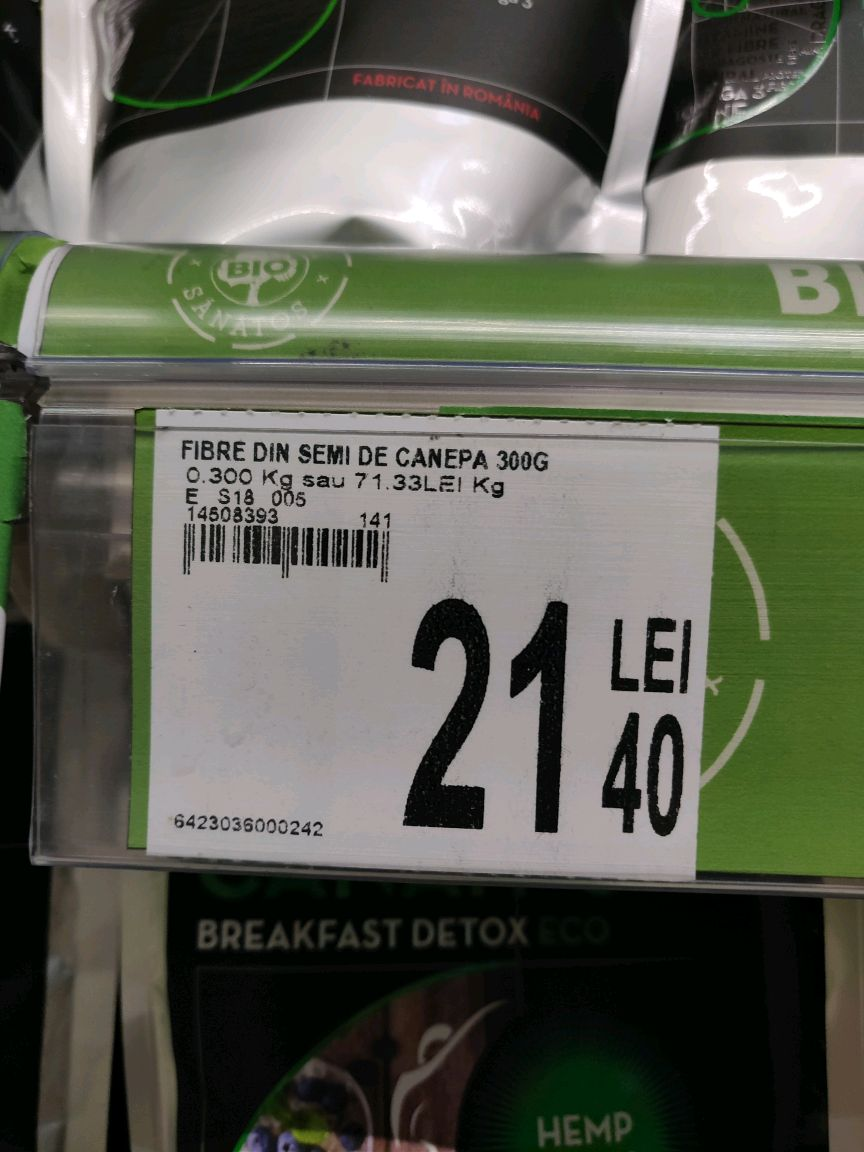price_bani: (591, 705, 691, 847)
price_lei: (393, 588, 582, 848)
price_tag: (126, 403, 743, 881)
product_id: (164, 805, 332, 848)
product_name: (170, 430, 563, 476)
